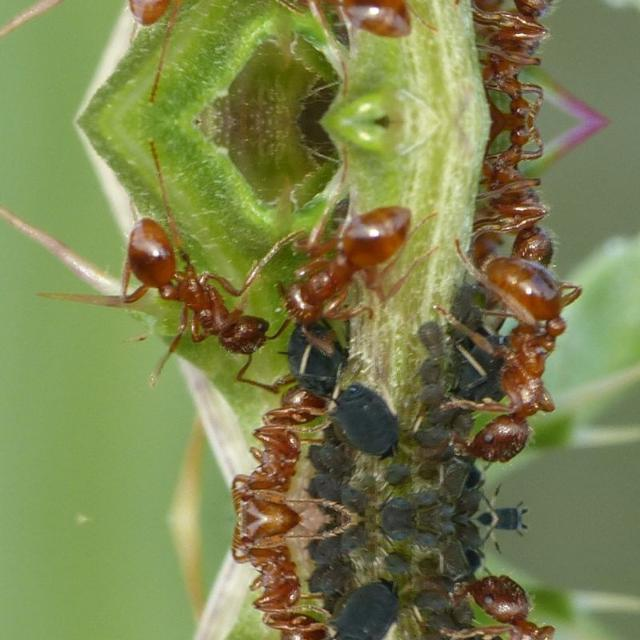Myrmica: (92, 176, 278, 390), (459, 234, 565, 494), (218, 364, 364, 518), (284, 198, 444, 334), (470, 121, 586, 281), (218, 518, 362, 640), (470, 0, 586, 120), (91, 0, 276, 66), (459, 542, 565, 640), (282, 0, 443, 44)
